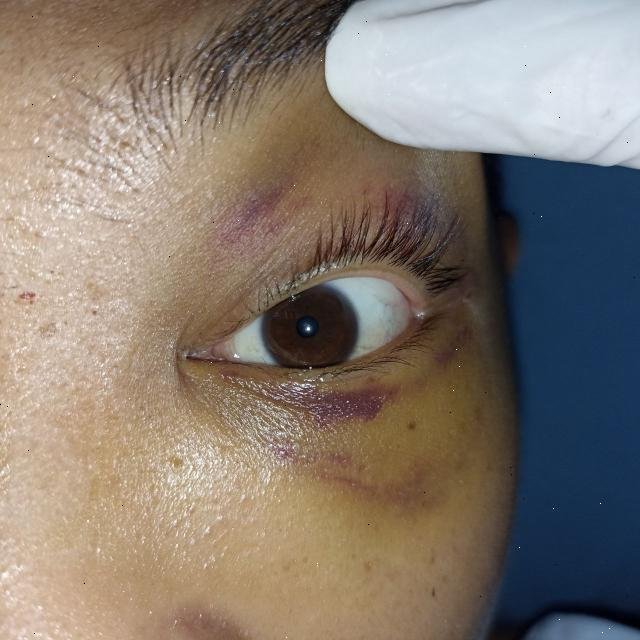Normal: (254, 280, 363, 382)
